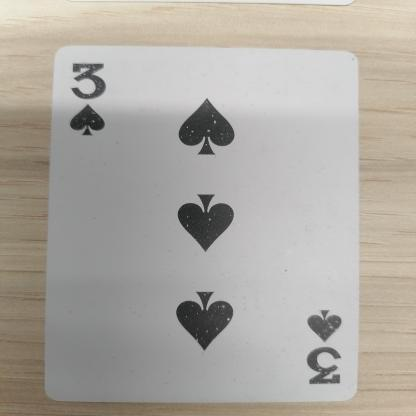3S: (54, 49, 122, 144), (292, 289, 341, 401)
